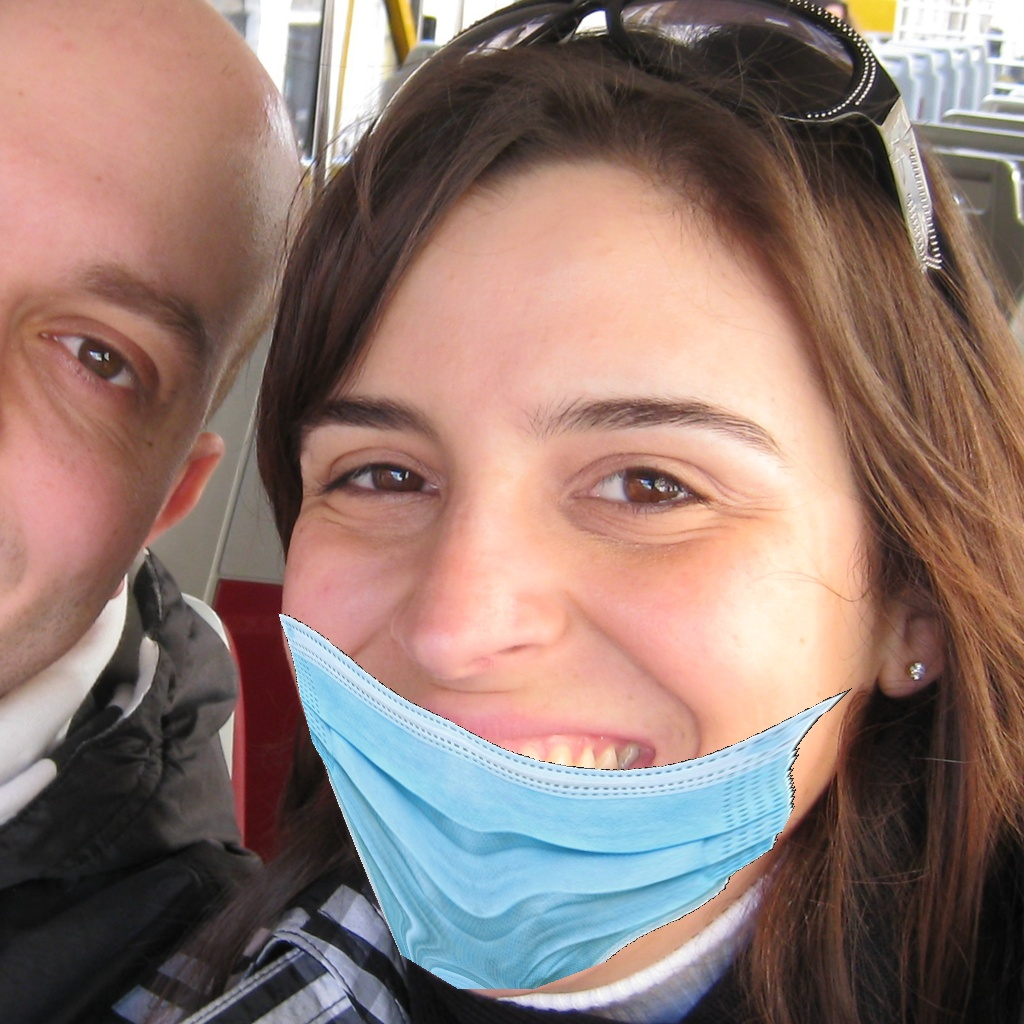mascarilla_mal_puesta: (269, 545, 882, 1008)
